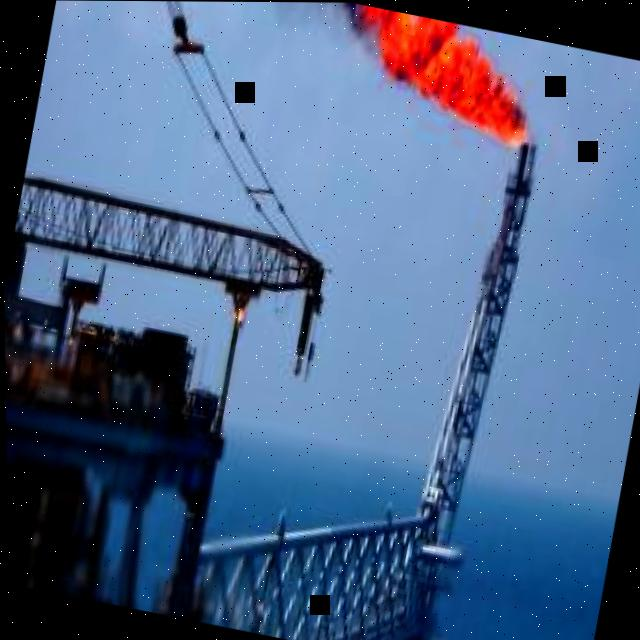fire: (346, 2, 523, 147)
